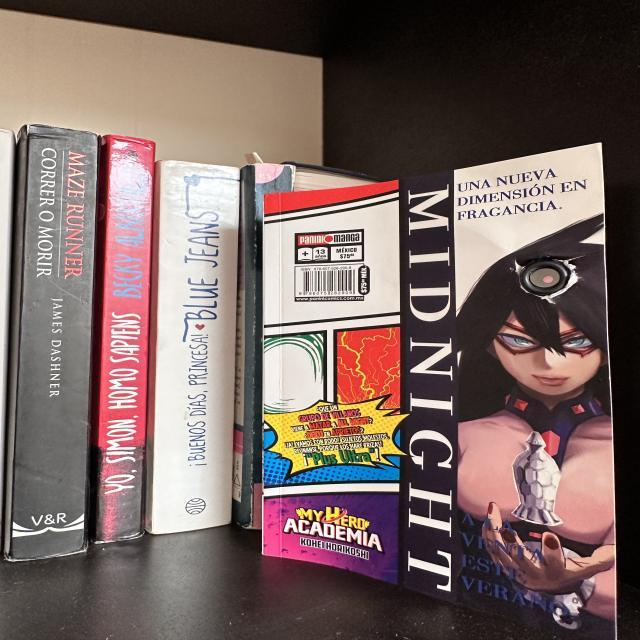hidden camera: (522, 263, 567, 293)
